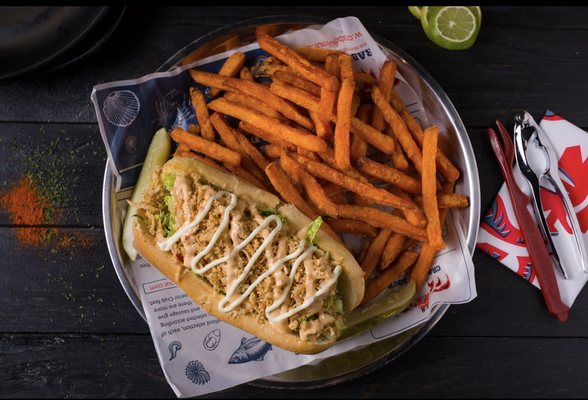curry: (13, 6, 587, 390)
